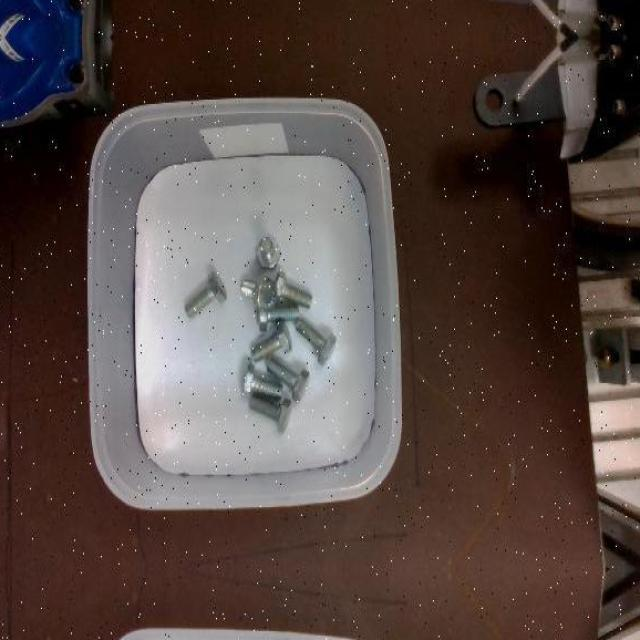screw: (185, 270, 228, 319), (294, 318, 336, 366), (268, 356, 310, 402), (252, 318, 294, 359), (249, 394, 291, 434), (274, 269, 314, 309), (242, 363, 284, 399), (241, 274, 277, 312), (257, 234, 281, 268)
